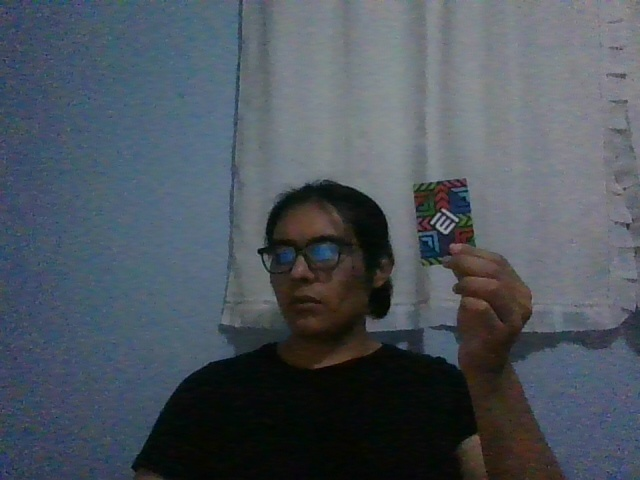tarjeta: (411, 177, 476, 268)
